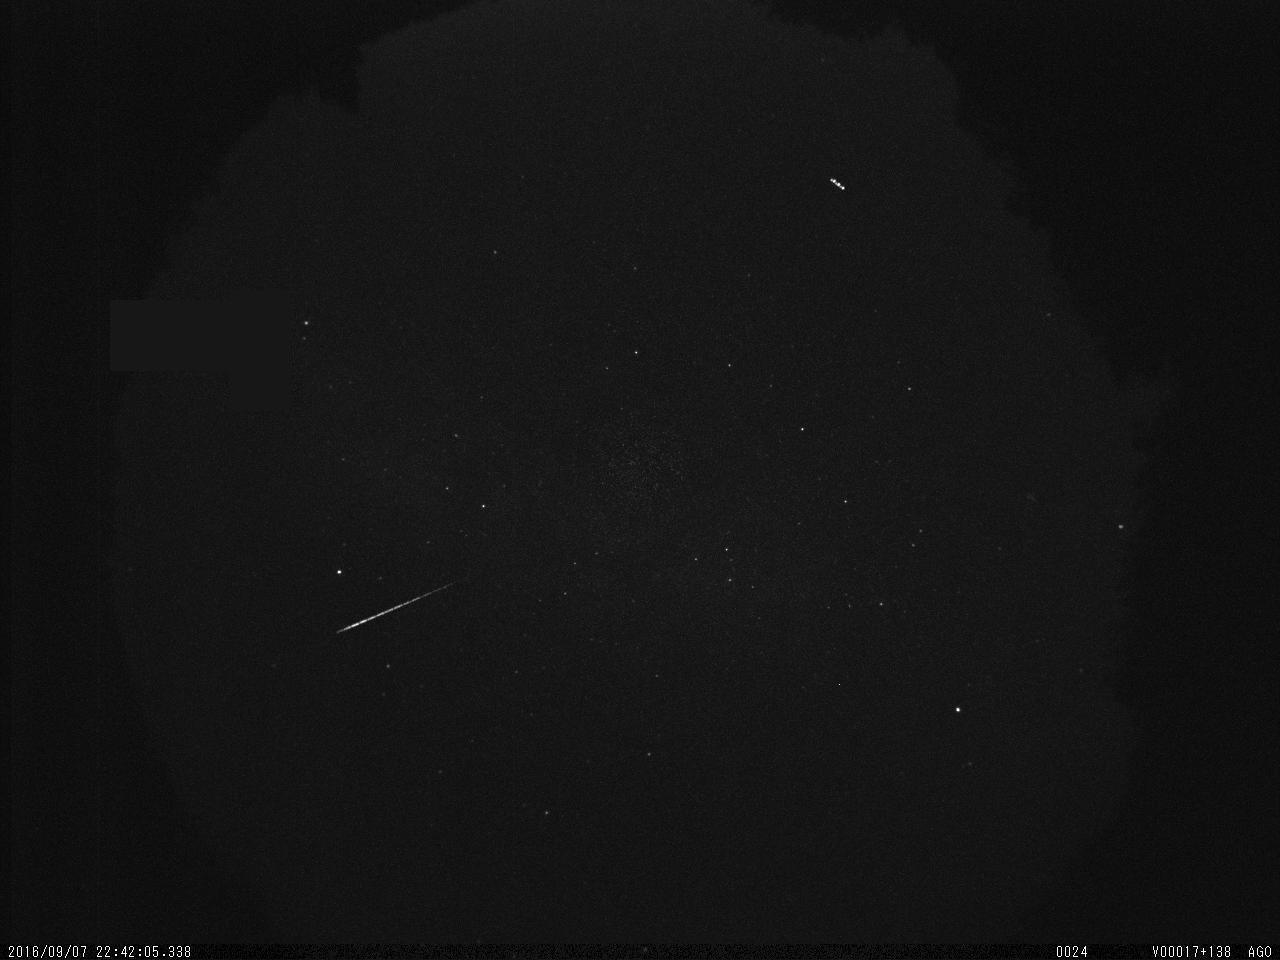Meteor: (332, 577, 455, 635)
